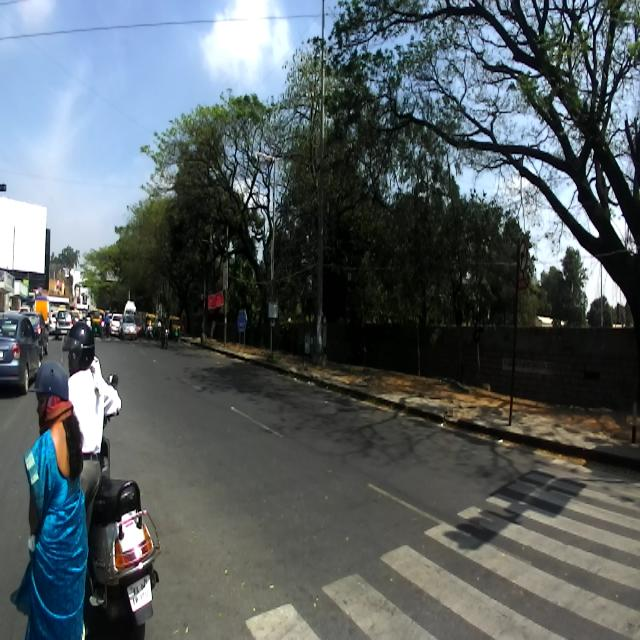motorcycle ahead at: (94, 484, 164, 640)
person ahead at: (19, 347, 95, 640)
zebra crossing ahead at: (243, 442, 640, 629)
